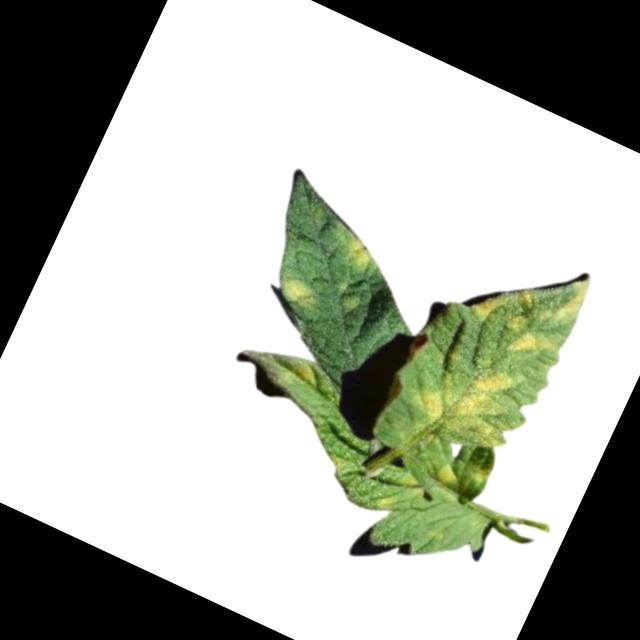Leaf_Mold: (408, 342, 530, 456), (510, 254, 596, 335), (496, 309, 567, 370), (273, 351, 324, 398), (336, 231, 380, 277), (274, 271, 321, 312), (468, 285, 506, 324), (428, 458, 464, 493), (472, 460, 496, 487)
